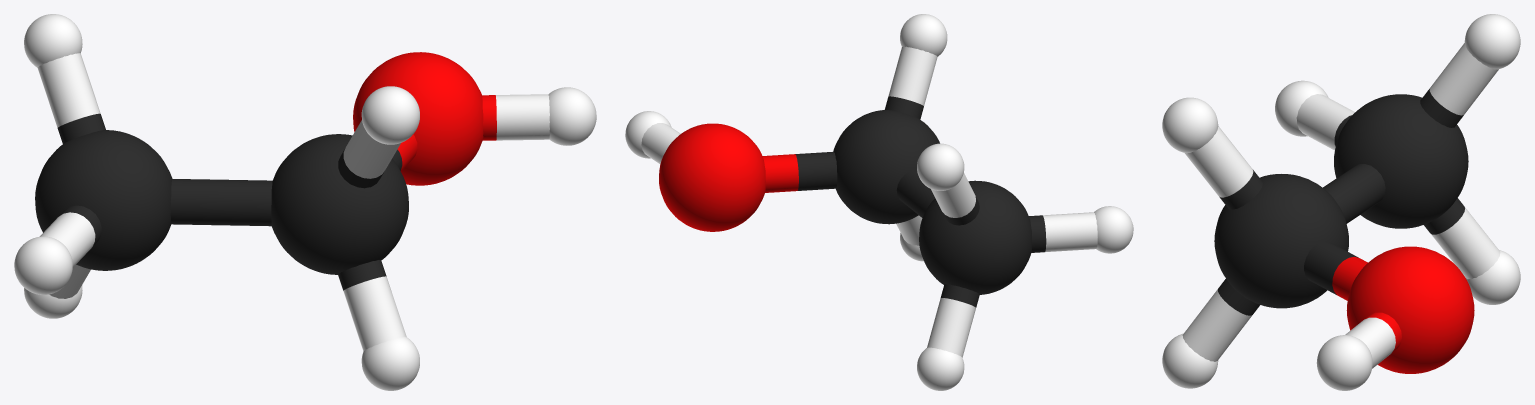
The model's file is etanol.obj.
3 views of the same model, side by side, from view 1: azimuth 30°, elevation 25°; view 2: azimuth 150°, elevation 25°; view 3: azimuth 270°, elevation 25° (orthographic). The views are drawn at different scales.
Parts seen in each view (by area): view 1: etanol; view 2: etanol; view 3: etanol.
Part boxes in pixels (x1=…): etanol: x1=14, y1=14, x2=596, y2=390; etanol: x1=625, y1=14, x2=1133, y2=390; etanol: x1=1162, y1=14, x2=1520, y2=390.
Bounding box in the file's own units: 4.51 × 2.16 × 2.46.
